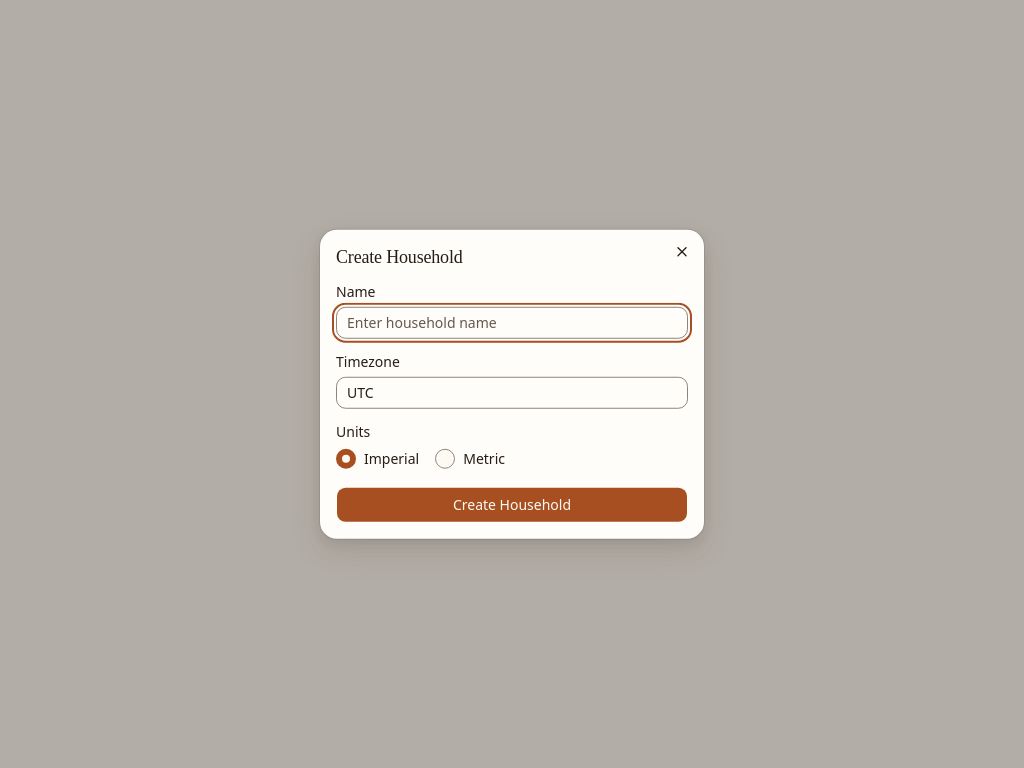
CreateHouseholdDialog › shows validation error when submitting with empty name
Click the button "Create Household". click: (512, 504)
box: [336,486,688,522]
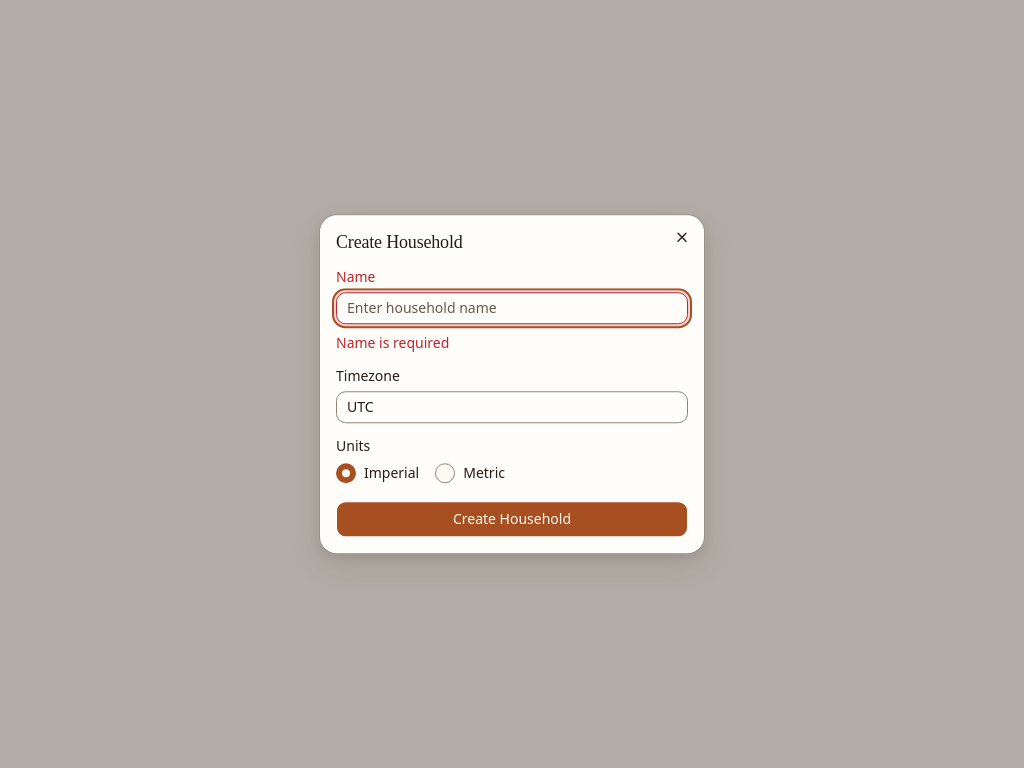
Now the text "Name is required" is shown, box [336,333,449,352]
